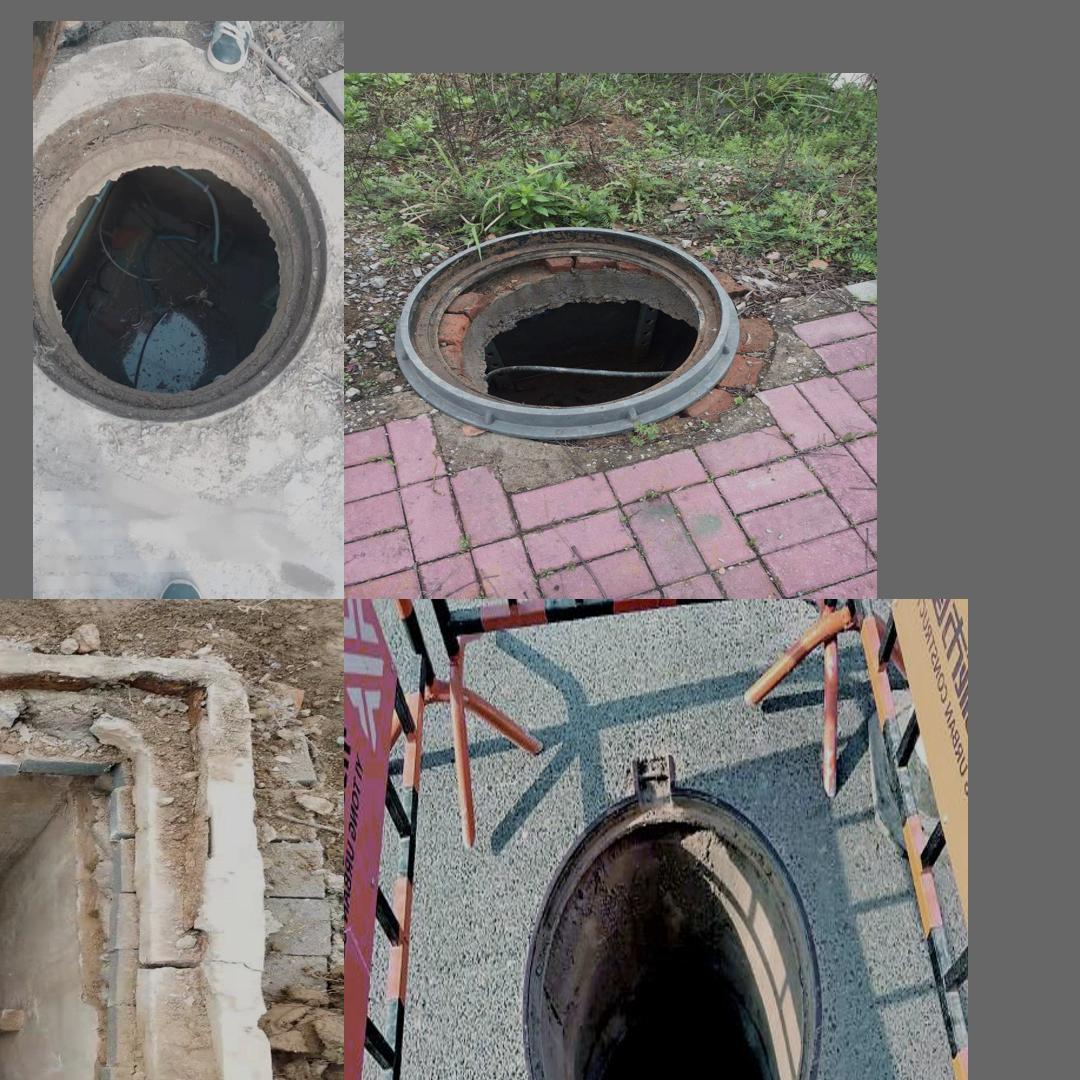lose: (0, 626, 294, 1080), (39, 57, 323, 470), (515, 780, 830, 1080), (391, 227, 739, 441)
